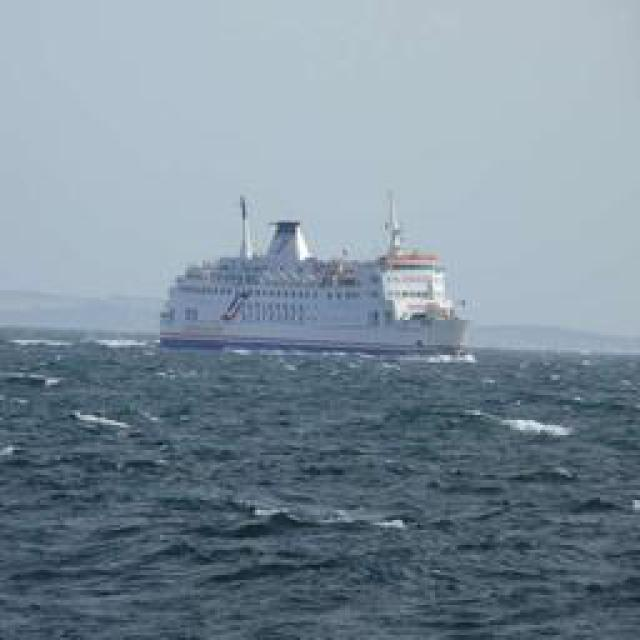Ship: (159, 192, 479, 362)
